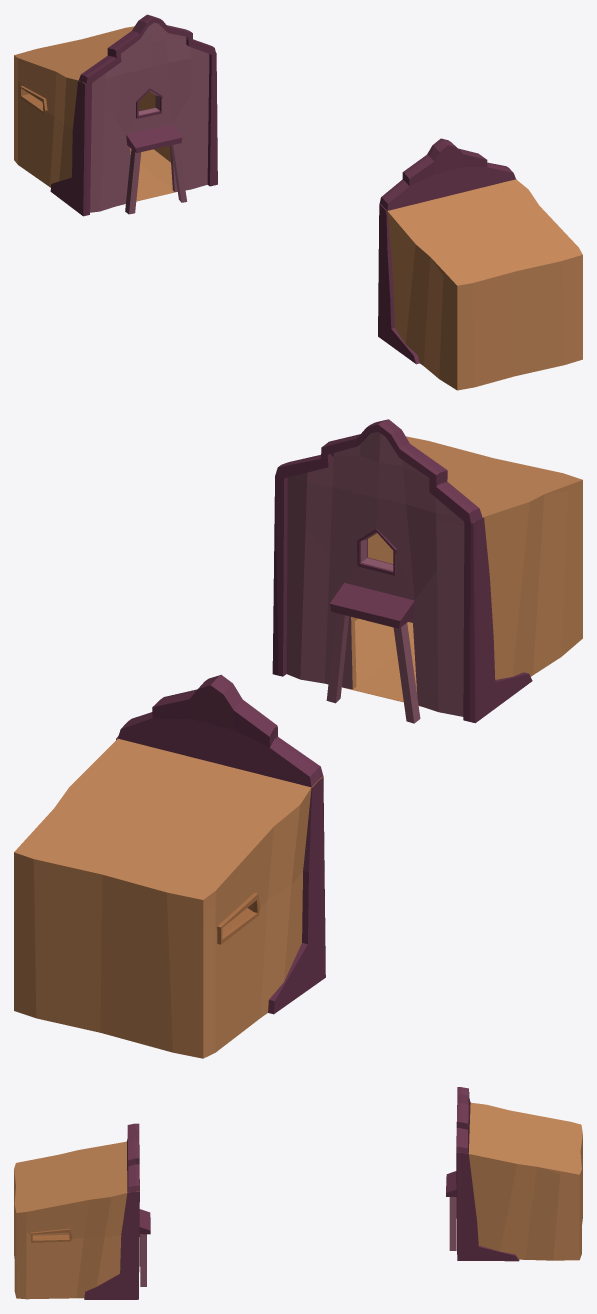
The model's file is bar.gltf.
The picture shows the model from 3 angles, top to bottom: view 1: azimuth 30°, elevation 25°; view 2: azimuth 150°, elevation 25°; view 3: azimuth 270°, elevation 25°; orthographic projection. The views are drawn at different scales.
Parts seen in each view (by area): view 1: bar; view 2: bar; view 3: bar.
Part boxes in pixels (x1,y1,x2,y2): bar: (14,14,582,390); bar: (14,419,582,1058); bar: (14,1087,582,1299).
Bounding box in the file's own units: 0.9012 × 0.6953 × 2.35.
Materials: 1 (1 with a texture image).
